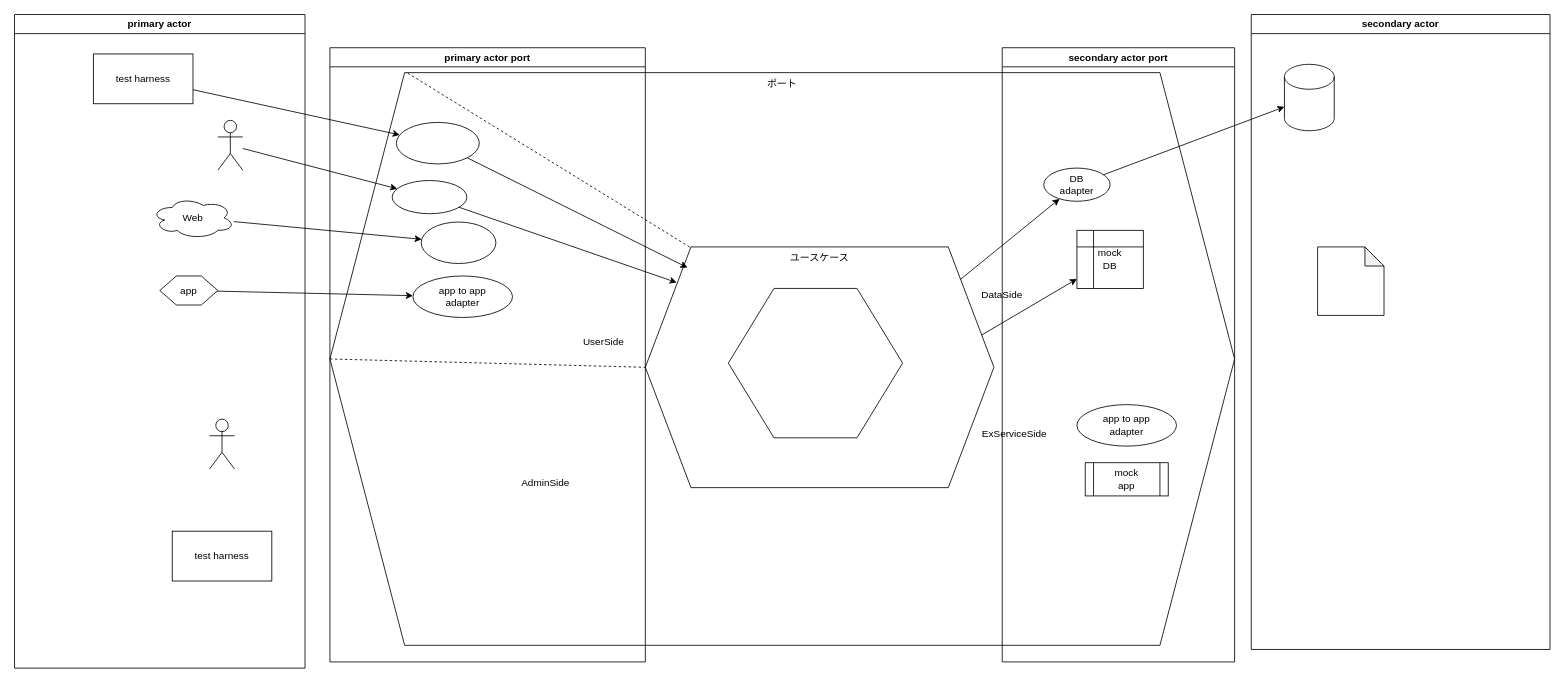
Some shapes in this 1565 by 683 pixel diagram are drawn without their labels. The centre of each missing label's shape, as x and y in pixels:
admin: point (221, 443)
CUI adapter: point (429, 197)
DB: point (1309, 97)
http adapter: point (458, 242)
log: point (1350, 280)
test harness adapter: point (437, 143)
user: point (230, 145)
ドメイン: point (815, 363)
